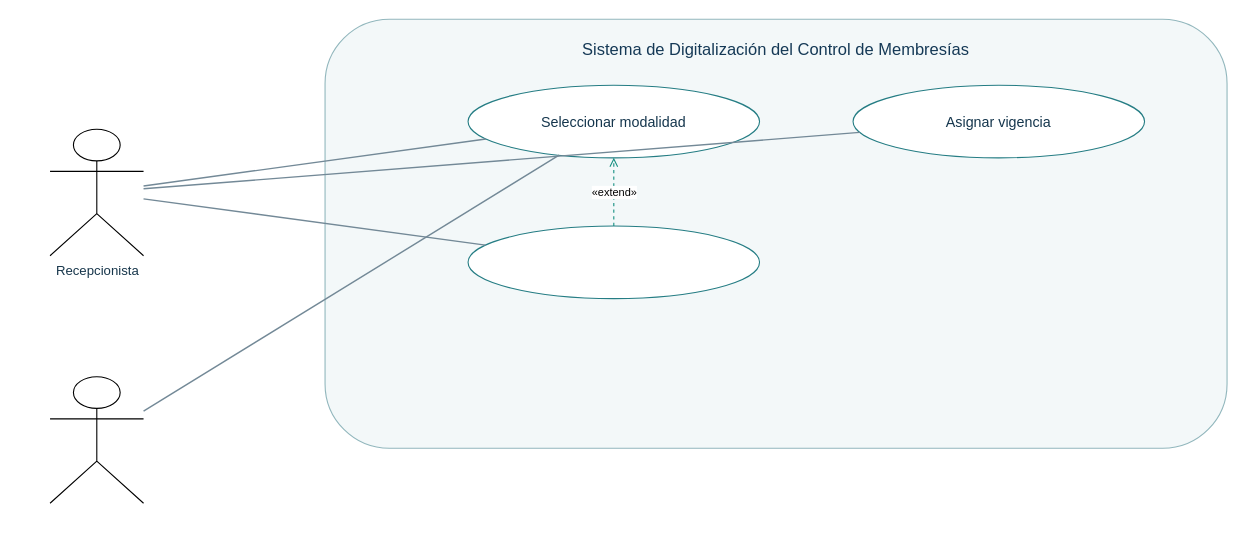
This 1246x546 diagram has some shape labels left out. Each missing label, with the centre of its shape:
"Administrador / propietario" belongs at point 96,439.
"Asociar dos clientes" belongs at point 613,262.
